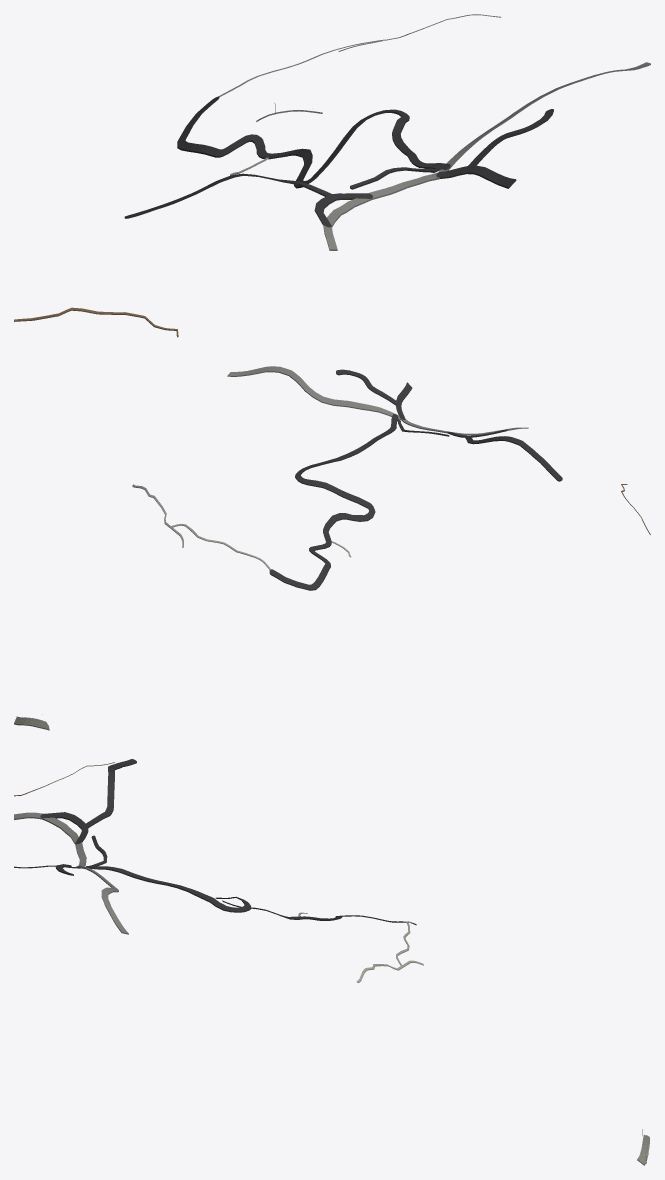
3 renders of one model, top to bottom at view 1: azimuth 30°, elevation 25°; view 2: azimuth 150°, elevation 25°; view 3: azimuth 270°, elevation 25°, orthographic. The views are drawn at different scales.
Bounding box in the file's own units: 535 × 248 × 584.
